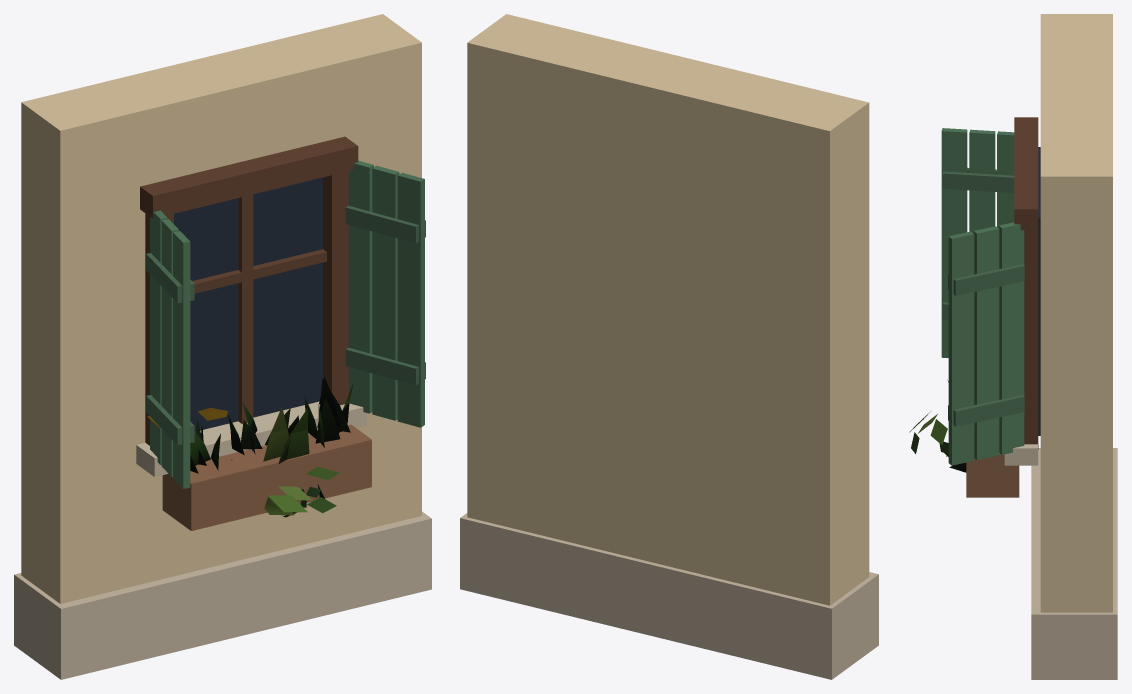
The model's file is ventana_postigos.glb.
3 renders of one model, left to right at view 1: azimuth 30°, elevation 25°; view 2: azimuth 150°, elevation 25°; view 3: azimuth 270°, elevation 25°, orthographic. The views are drawn at different scales.
Parts seen in each view (by area): view 1: ventana_postigos_fijo, ventana_postigos_vegetacion; view 2: ventana_postigos_fijo; view 3: ventana_postigos_fijo, ventana_postigos_vegetacion.
Part boxes in pixels (left/top/right/bottom): ventana_postigos_fijo: left=14, top=14, right=431, bottom=679; ventana_postigos_vegetacion: left=147, top=376, right=353, bottom=517; ventana_postigos_fijo: left=460, top=14, right=878, bottom=679; ventana_postigos_fijo: left=941, top=14, right=1117, bottom=679; ventana_postigos_vegetacion: left=909, top=379, right=1038, bottom=472.
Size of the model in its own units: 1.64 by 2.3 by 0.8755.
